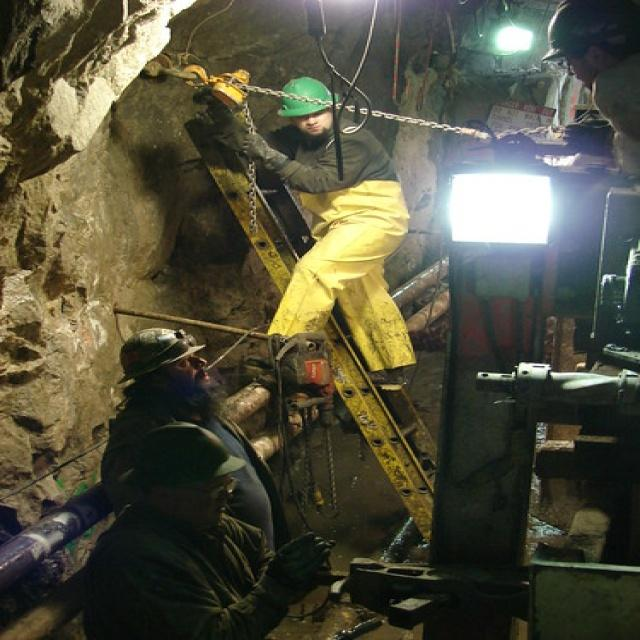helmet: (119, 420, 201, 513), (278, 95, 338, 153)
